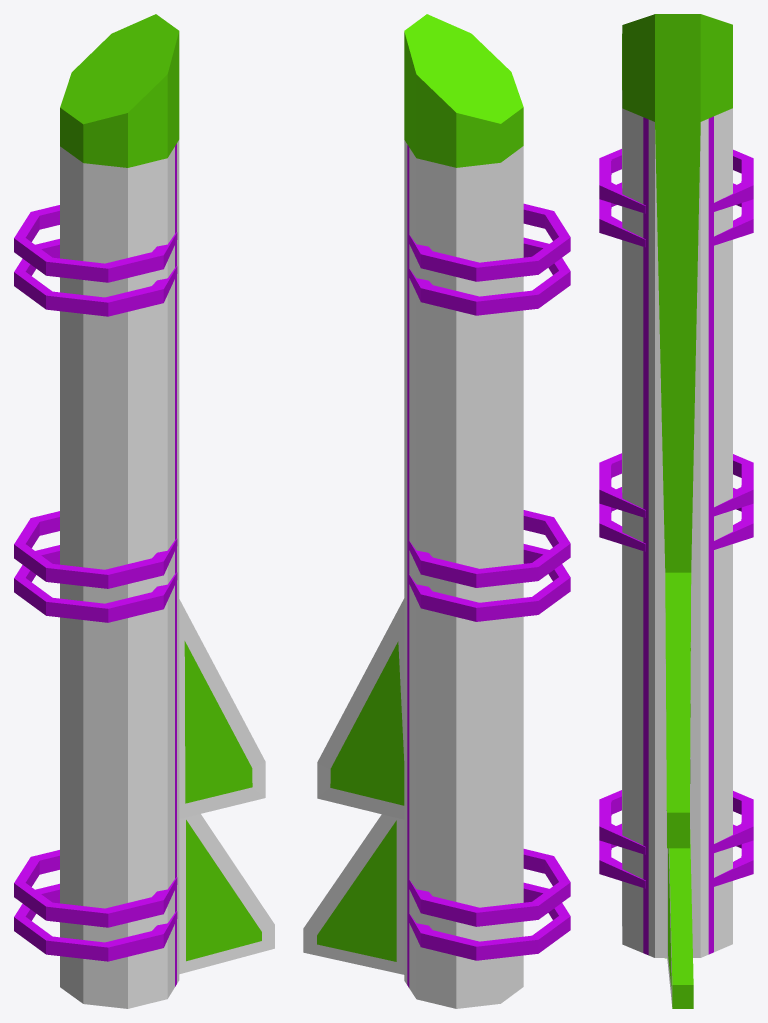
File: missile_lv8.fbx
The picture shows the model from 3 angles, left to right: view 1: azimuth 30°, elevation 25°; view 2: azimuth 150°, elevation 25°; view 3: azimuth 270°, elevation 25°; orthographic projection.
Parts seen in each view (by area): view 1: missile_lv8; view 2: missile_lv8; view 3: missile_lv8.
Boxes of the visible parts, x1,y1,x2,y2 form: missile_lv8: (14,14,274,1008); missile_lv8: (303,14,570,1008); missile_lv8: (599,14,753,1008).
Size of the model in its own units: 66.1 by 247 by 36.57.
